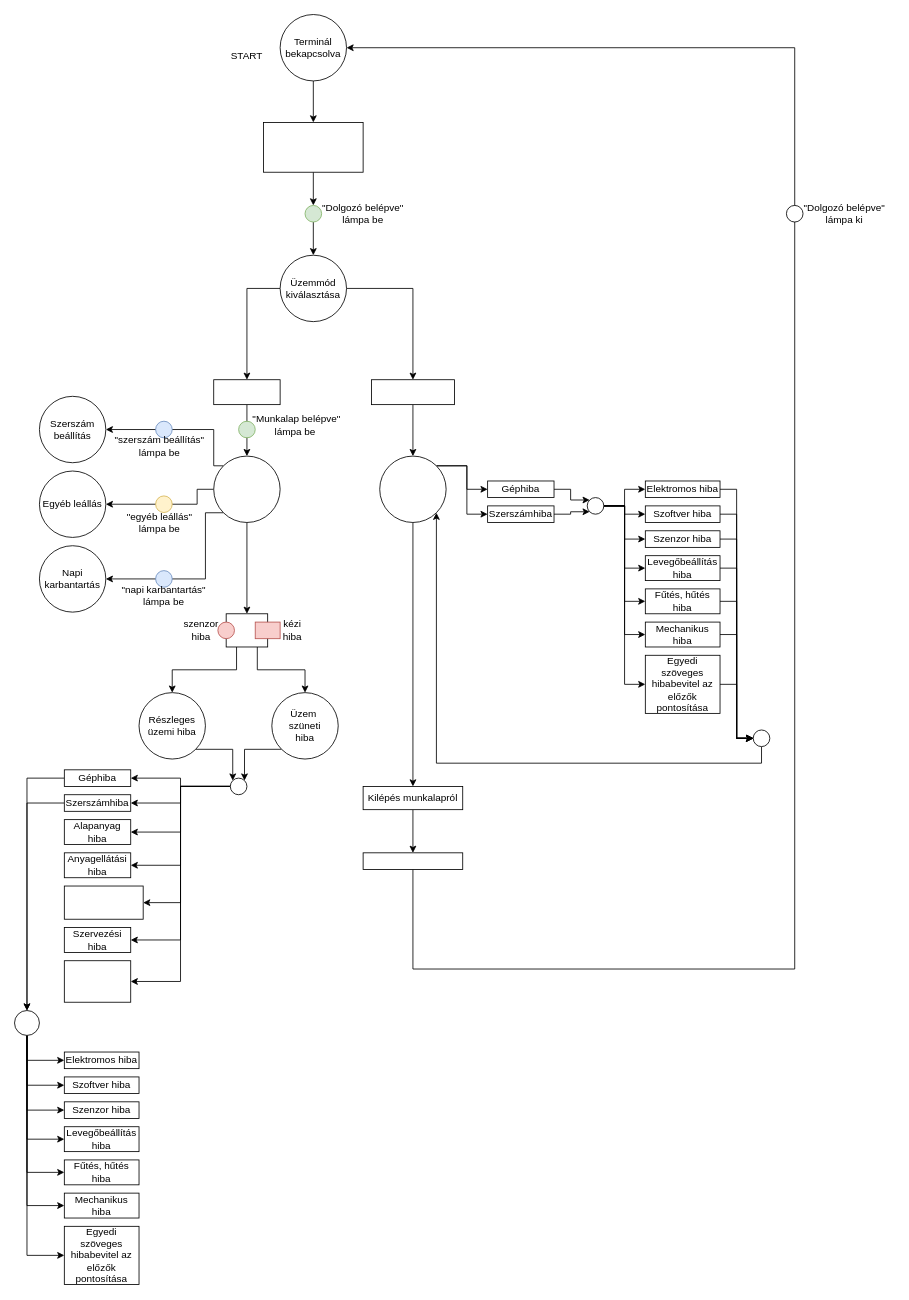
Some shapes in this 909 by 1300 pixel diagram are drawn without their labels. The shapes that lost their labels are listed below. From the top down, each one's box as (x1, y1, x2, y2) in pixels, then its label:
(263, 122, 363, 172): Dolgozói belépés
(213, 379, 280, 405): Munkalap
(371, 379, 454, 405): TMK karbantartás indítása
(213, 455, 280, 522): Üzemszerű működés
(379, 455, 446, 522): TMK
(362, 852, 463, 869): Dolgozói kilépés
(63, 885, 143, 919): Csomagolóanyag, segédanyag hiba
(63, 960, 131, 1002): Egyedi szöveges hibabevitel
